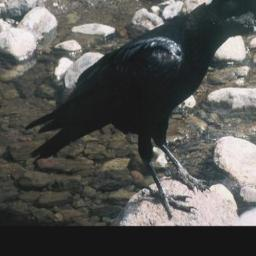Crow: (25, 0, 256, 220)
